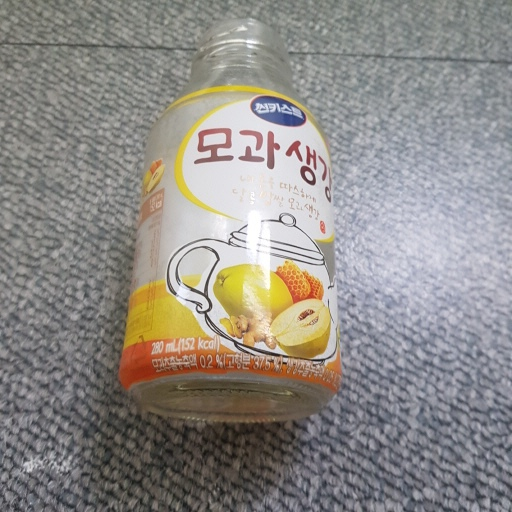Glass_4: (106, 18, 349, 421)
